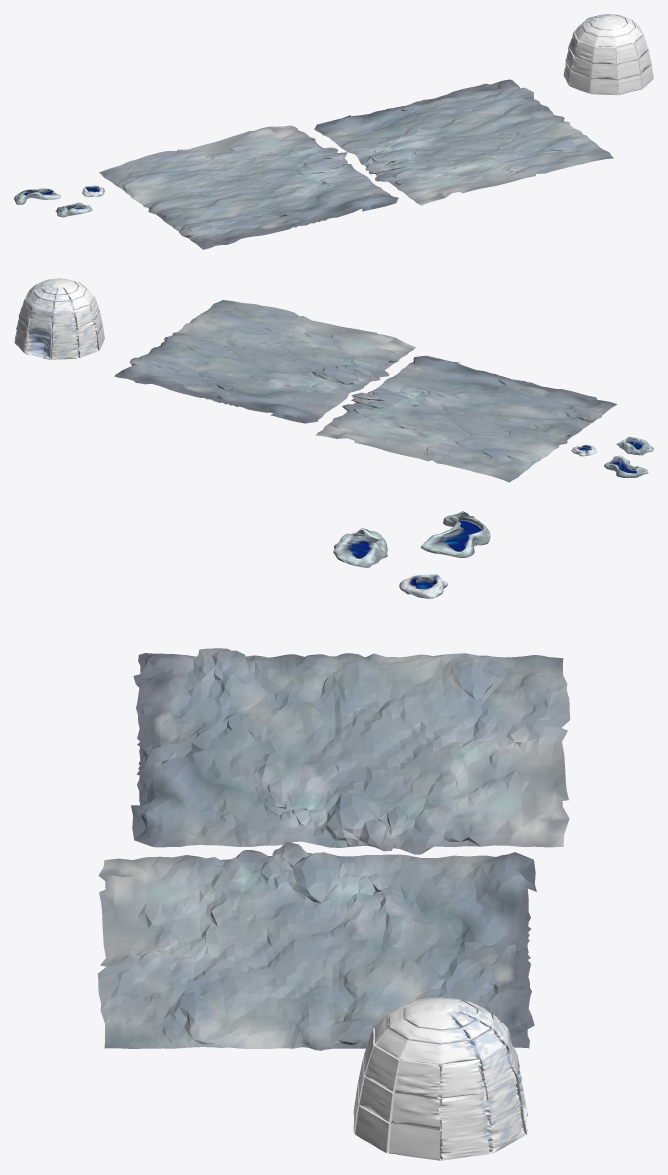
File: PRIMER.glb
3 views of the same model, one above another, from view 1: azimuth 30°, elevation 25°; view 2: azimuth 150°, elevation 25°; view 3: azimuth 270°, elevation 25° (orthographic). The views are drawn at different scales.
Parts seen in each view (by area): view 1: Cube.001, Cube.003, Cylinder.003, Cylinder.001, Cylinder.002; view 2: Cube.003, Cube.001, Cylinder.003, Cylinder.001, Cylinder.002; view 3: Cube.001, Cube.003, Cylinder.003, Cylinder.001, Cylinder.002, Cylinder.
Part boxes in pixels (box(x1,y1,x2,y2)): Cube.001: box(99, 125, 398, 249); Cube.003: box(314, 79, 613, 205); Cylinder.003: box(563, 14, 653, 95); Cylinder.001: box(14, 188, 60, 204); Cylinder.002: box(55, 202, 92, 217); Cube.003: box(114, 300, 415, 423); Cube.001: box(315, 355, 616, 482); Cylinder.003: box(14, 278, 104, 359); Cylinder.001: box(604, 455, 648, 477); Cylinder.002: box(616, 436, 653, 455); Cube.001: box(131, 648, 570, 854); Cube.003: box(97, 842, 536, 1050); Cylinder.003: box(353, 997, 528, 1160); Cylinder.001: box(421, 511, 490, 557); Cylinder.002: box(333, 528, 387, 567); Cylinder: box(399, 574, 447, 598).
Size of the model in its own units: 44.73 by 4.08 by 14.56.
